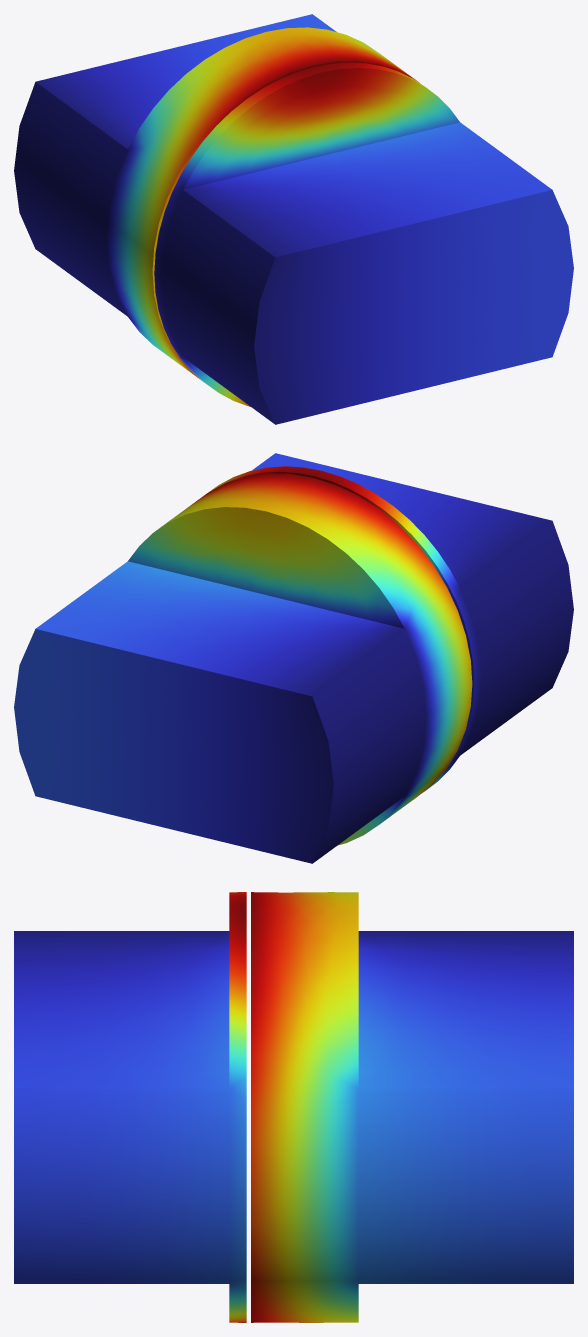
File: PilaN2-H20_mh2-8.20_V-1.glb
The picture shows the model from 3 angles, top to bottom: view 1: azimuth 30°, elevation 25°; view 2: azimuth 150°, elevation 25°; view 3: azimuth 270°, elevation 25°; orthographic projection. The views are drawn at different scales.
Bounding box in the file's own units: 0.001 × 0.001 × 0.0013.
2 materials, 2 textured.
